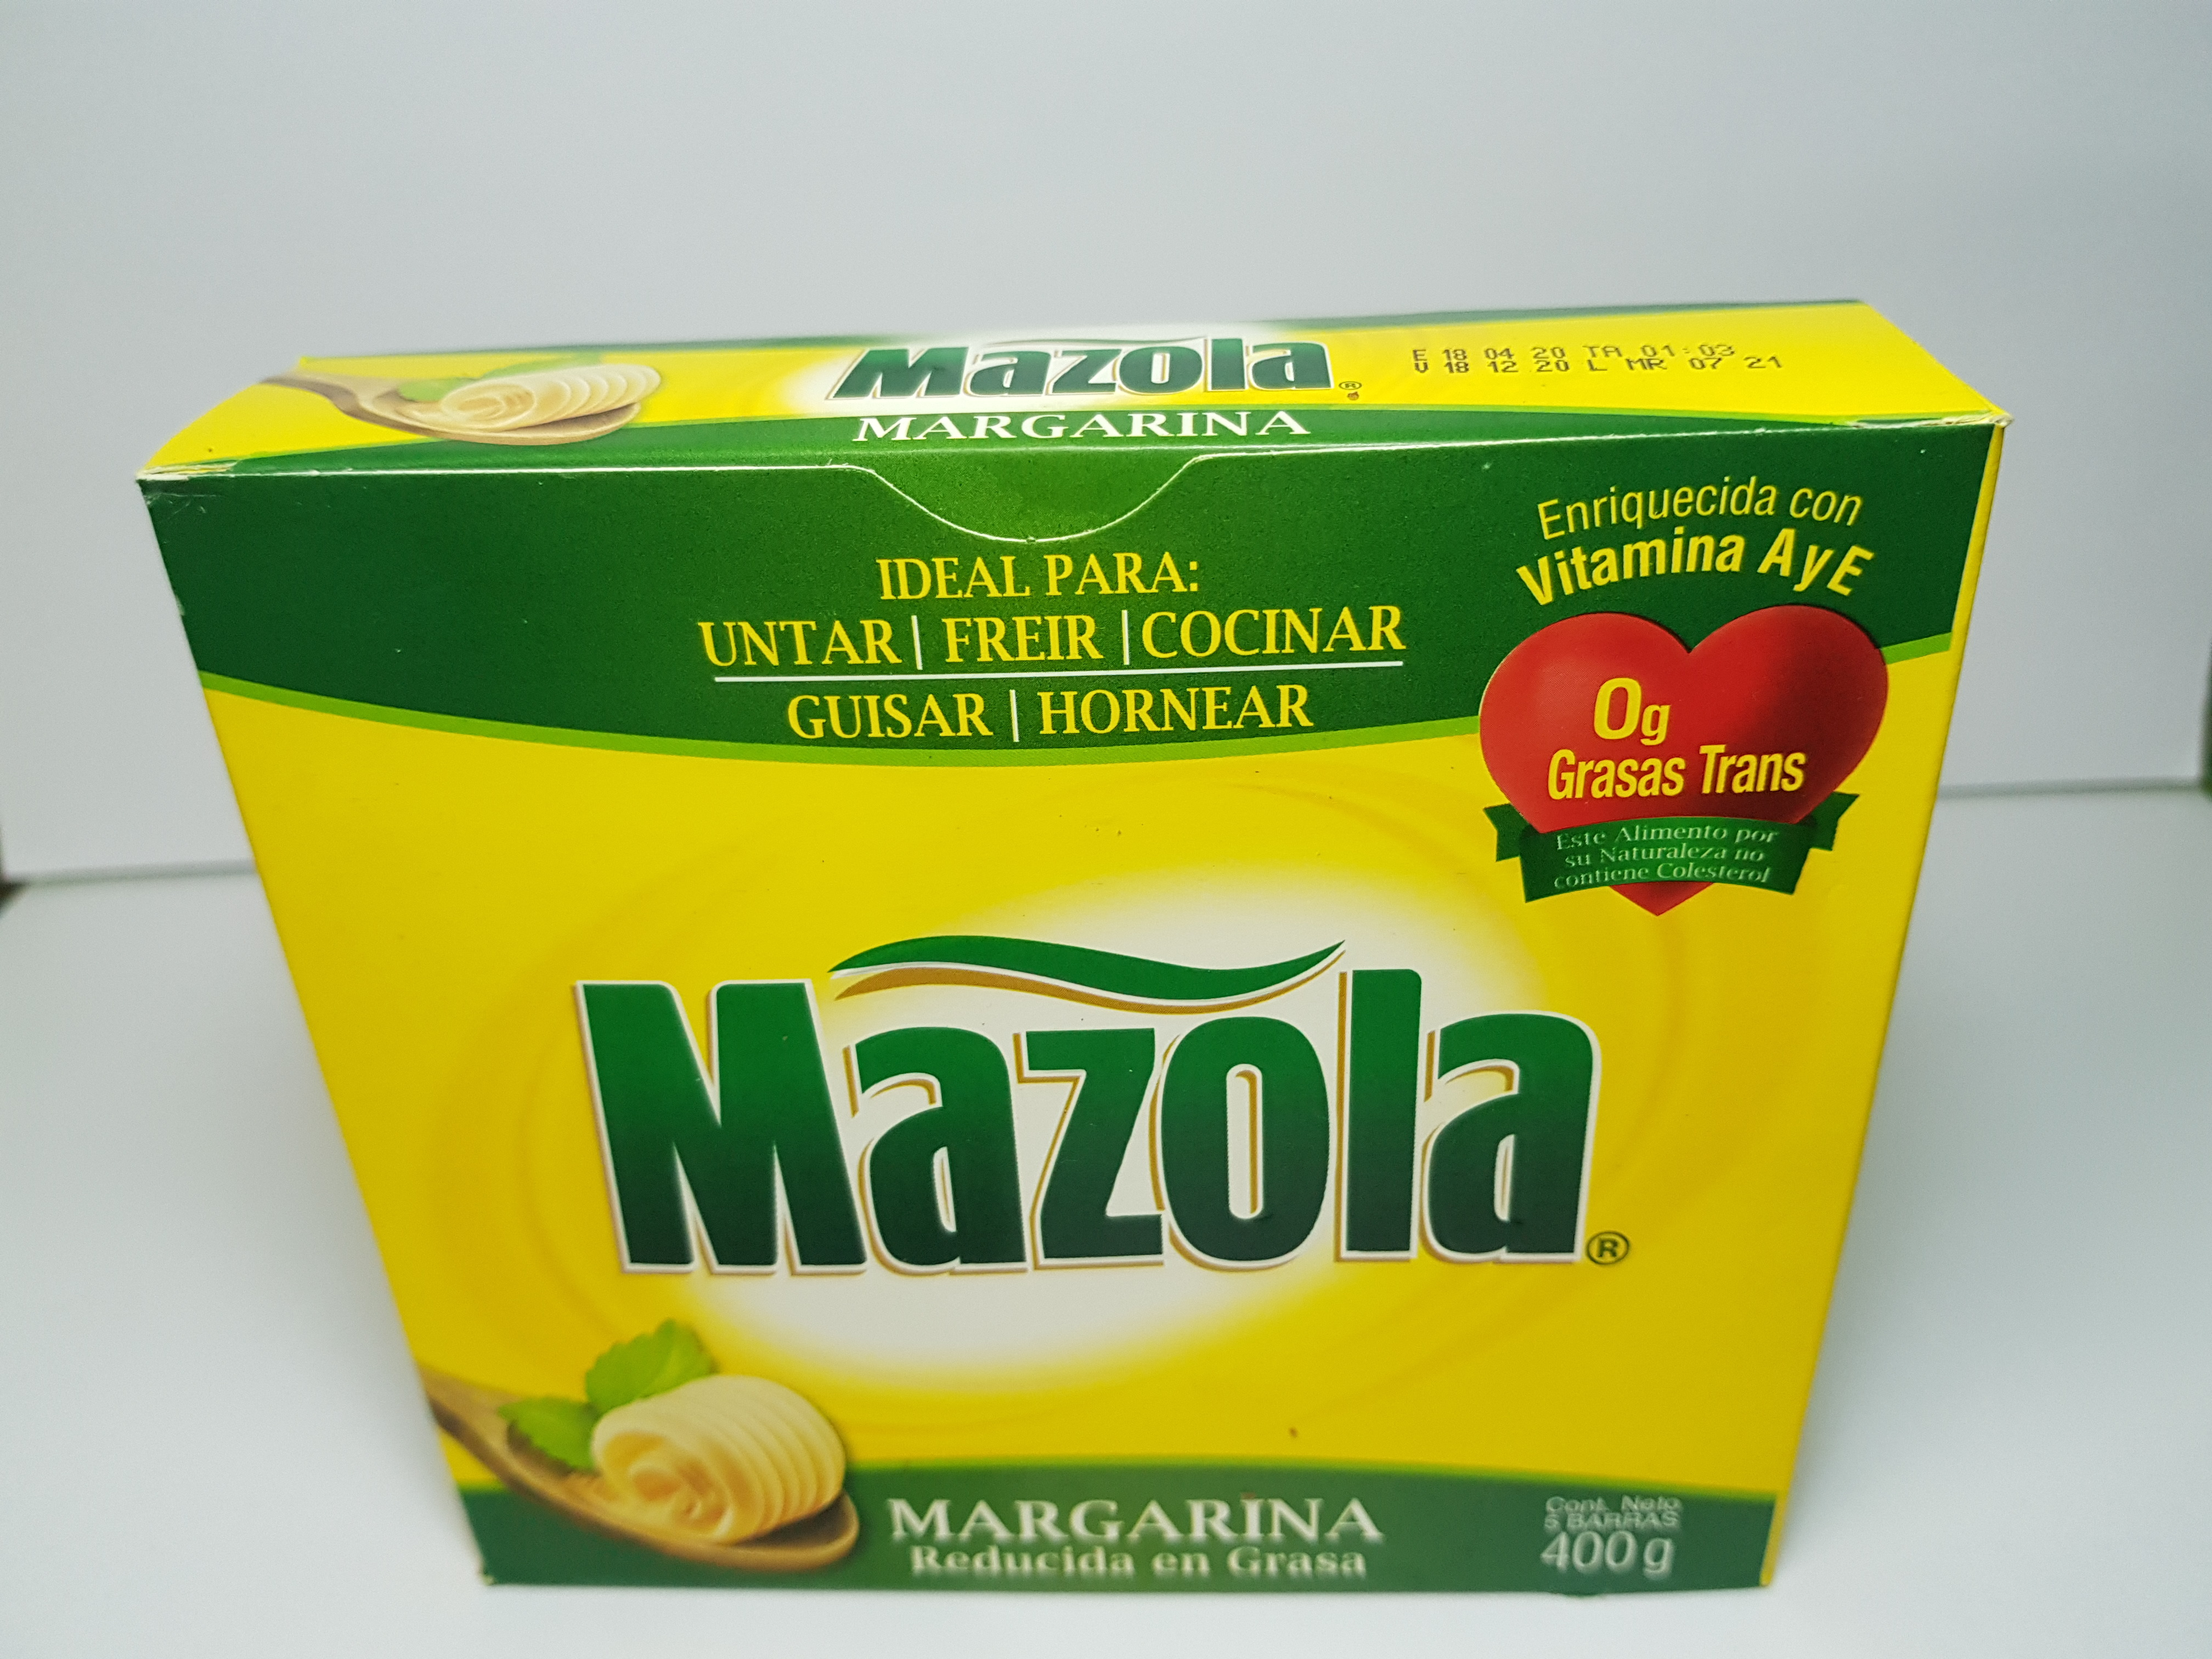mazola: (132, 279, 2054, 1638)
